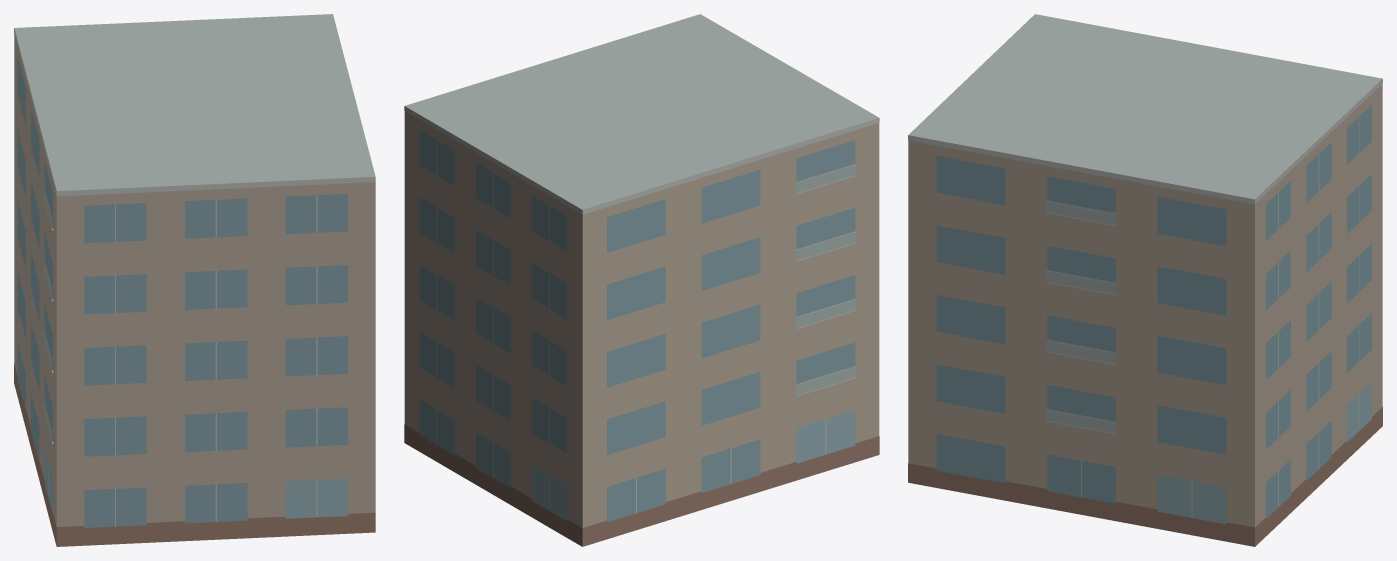
File: survey-upis-33011894.glb
3 renders of one model, left to right at view 1: azimuth 30°, elevation 25°; view 2: azimuth 150°, elevation 25°; view 3: azimuth 270°, elevation 25°, orthographic. The views are drawn at different scales.
Visible parts, largest first — view 1: survey-upis-33011894.tmp; view 2: survey-upis-33011894.tmp; view 3: survey-upis-33011894.tmp.
Boxes of the visible parts, box(x1,y1,x2,y2) form: survey-upis-33011894.tmp: box(14, 14, 375, 546); survey-upis-33011894.tmp: box(404, 14, 879, 546); survey-upis-33011894.tmp: box(908, 14, 1382, 546).
Bounding box in the file's own units: 18.94 × 16.55 × 20.49.
